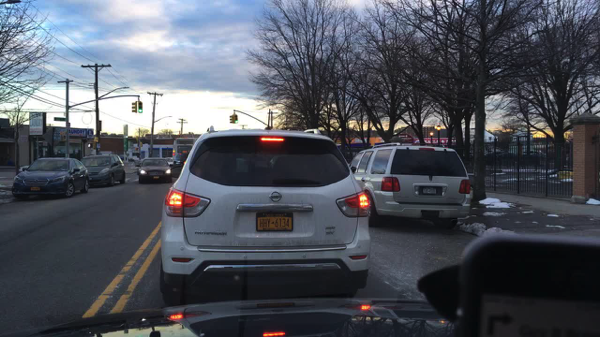bus: (170, 136, 200, 164)
car: (157, 128, 373, 308), (347, 141, 472, 232), (11, 157, 90, 201), (80, 154, 128, 188), (134, 157, 174, 185), (521, 148, 546, 158), (494, 152, 514, 159), (484, 152, 493, 156)
traffic light: (138, 101, 143, 113), (132, 102, 137, 113), (234, 114, 239, 124), (230, 115, 234, 124), (134, 147, 140, 152), (139, 141, 143, 148)
traffic sign: (122, 136, 129, 152), (96, 141, 103, 149), (54, 118, 66, 122)
